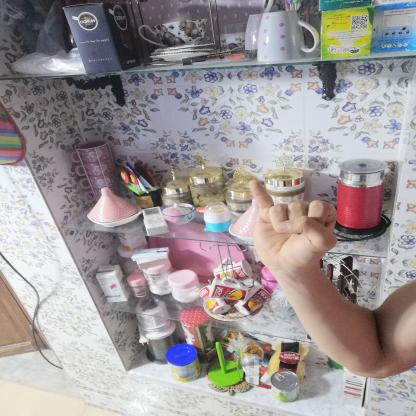MEEM: (230, 172, 355, 277)
